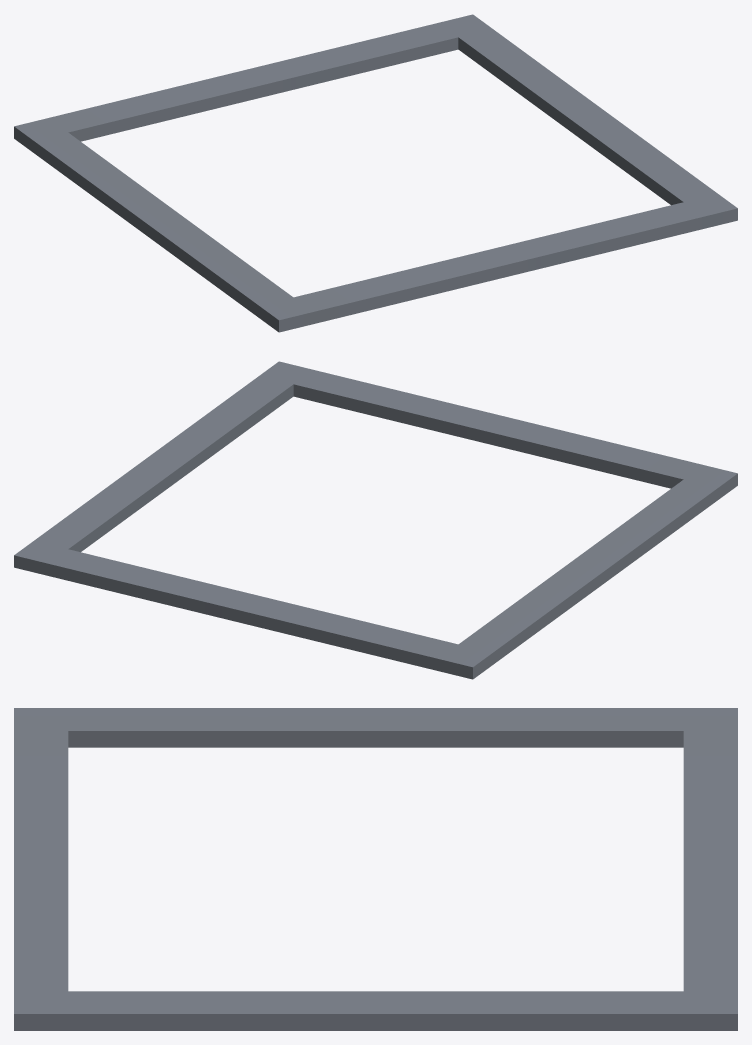
File: Mesh_CellGrey.fbx
3 renders of one model, top to bottom at view 1: azimuth 30°, elevation 25°; view 2: azimuth 150°, elevation 25°; view 3: azimuth 270°, elevation 25°, orthographic. The views are drawn at different scales.
Parts seen in each view (by area): view 1: grilla.neutra; view 2: grilla.neutra; view 3: grilla.neutra.
Boxes of the visible parts, x1,y1,x2,y2 form: grilla.neutra: [14, 14, 737, 332]; grilla.neutra: [14, 361, 737, 679]; grilla.neutra: [14, 708, 737, 1030].
Size of the model in its own units: 100 by 100 by 2.55.
